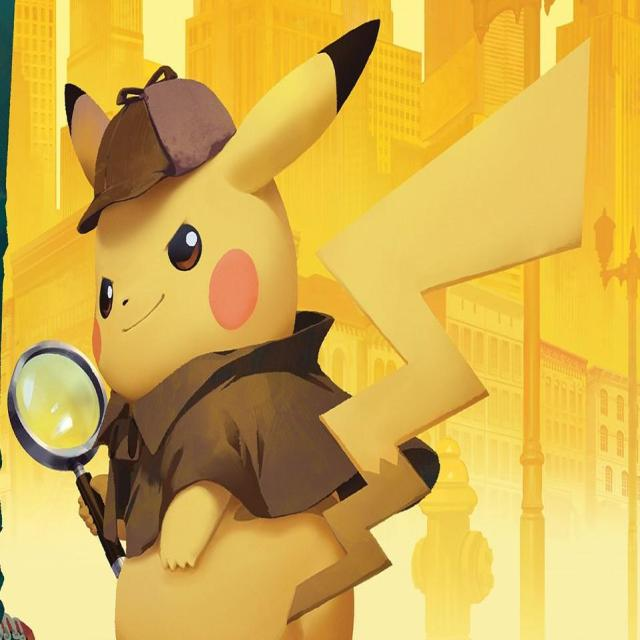pikachu: (65, 20, 590, 640)
